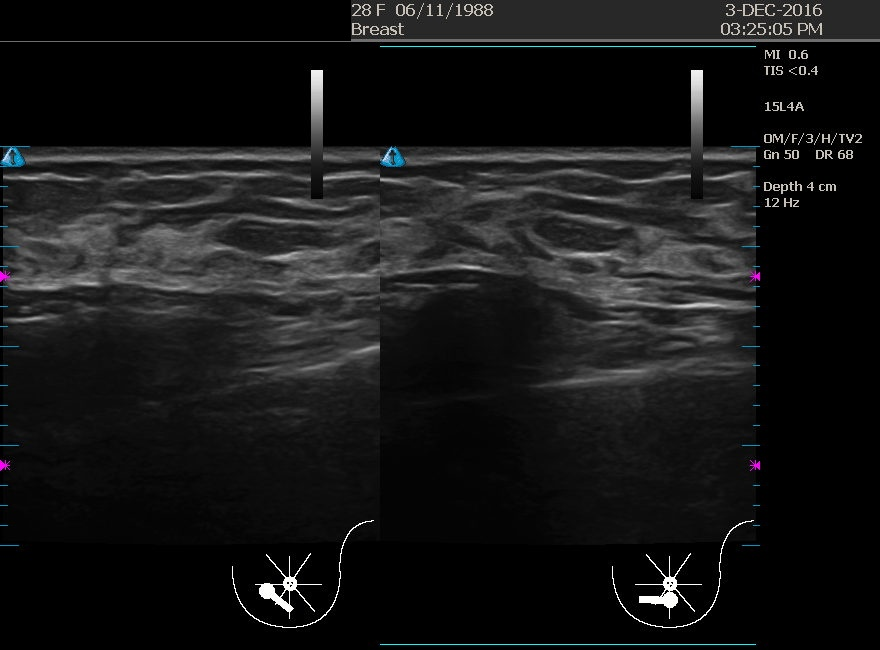BIRADS_2: (487, 155, 687, 355)
BIRADS_3: (150, 204, 350, 404)
